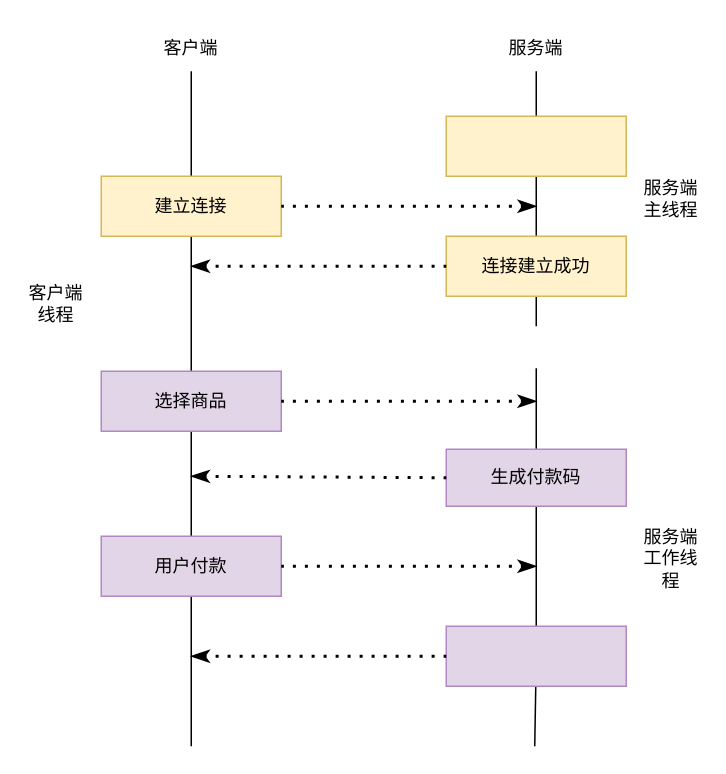
Image size: 726x774. Some labels were removed from this diagram. The shapes that lost their labels are listed below. From the top down, each one's centre as x and y in pixels, then its label:
At [535,145]: "等待连接".
At [535,655]: "购买成功".
